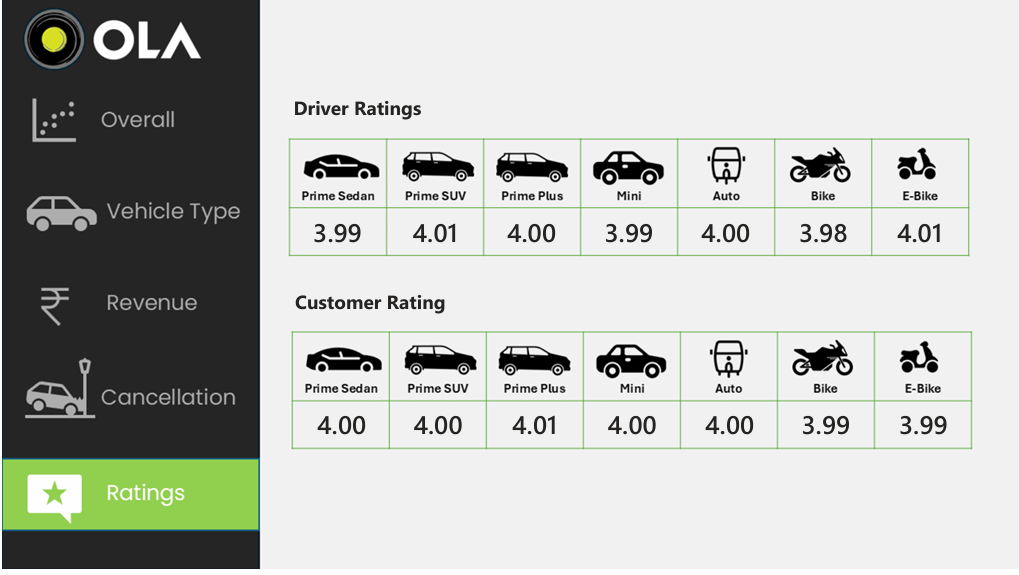

The dashboard page shown, as its layout file describes it:
{"tool":"powerbi","page":{"name":"Ratings","canvas":[1280,720],"ordinal":4},"visuals":[{"type":"actionButton","box":[0,337.8,323.3,91.7],"z":0},{"type":"actionButton","box":[0,224.4,323.3,91.7],"z":1000},{"type":"actionButton","box":[0,108.6,323.3,91.7],"z":2000},{"type":"actionButton","box":[0,448.8,323.3,91.7],"z":3000},{"type":"card","fields":{"Values":["Avg(OLA_Bookings.Driver_Ratings)"]},"box":[362.5,262.5,117.5,62.5],"z":4000},{"type":"card","fields":{"Values":["Avg(OLA_Bookings.Driver_Ratings)"]},"box":[485,262.5,117.5,62.5],"z":5000},{"type":"card","fields":{"Values":["Avg(OLA_Bookings.Driver_Ratings)"]},"box":[606.2,262.5,117.5,62.5],"z":6000},{"type":"card","fields":{"Values":["Avg(OLA_Bookings.Driver_Ratings)"]},"box":[728.8,262.5,117.5,62.5],"z":7000},{"type":"card","fields":{"Values":["Avg(OLA_Bookings.Driver_Ratings)"]},"box":[850,262.5,117.5,62.5],"z":8000},{"type":"card","fields":{"Values":["Avg(OLA_Bookings.Driver_Ratings)"]},"box":[972.5,262.5,117.5,62.5],"z":9000},{"type":"card","fields":{"Values":["Avg(OLA_Bookings.Driver_Ratings)"]},"box":[1093.8,262.5,117.5,62.5],"z":10000},{"type":"card","fields":{"Values":["Avg(OLA_Bookings.Customer_Rating)"]},"box":[367.5,507.5,117.5,56.2],"z":11000},{"type":"textbox","box":[361.2,116.2,181.2,57.5],"z":12000},{"type":"textbox","box":[362.5,360,200,57.5],"z":13000},{"type":"card","fields":{"Values":["Avg(OLA_Bookings.Customer_Rating)"]},"box":[488.8,507.5,117.5,56.2],"z":14000},{"type":"card","fields":{"Values":["Avg(OLA_Bookings.Customer_Rating)"]},"box":[610,507.5,117.5,56.2],"z":15000},{"type":"card","fields":{"Values":["Avg(OLA_Bookings.Customer_Rating)"]},"box":[732.5,507.5,117.5,56.2],"z":16000},{"type":"card","fields":{"Values":["Avg(OLA_Bookings.Customer_Rating)"]},"box":[855,507.5,117.5,56.2],"z":17000},{"type":"card","fields":{"Values":["Avg(OLA_Bookings.Customer_Rating)"]},"box":[976.2,507.5,117.5,56.2],"z":18000},{"type":"card","fields":{"Values":["Avg(OLA_Bookings.Customer_Rating)"]},"box":[1098.8,507.5,117.5,56.2],"z":19000}]}

Visuals, with their boxes on the page's 1280x720 design canvas (x1, y1, x2, y2). These are canvas units, not pixel positions in the 1019x575 screenshot, which may show the page scaled, cropped or inside an application window:
actionButton: region(0, 338, 323, 430)
actionButton: region(0, 224, 323, 316)
actionButton: region(0, 109, 323, 200)
actionButton: region(0, 449, 323, 540)
card - Avg(OLA_Bookings.Driver_Ratings): region(362, 262, 480, 325)
card - Avg(OLA_Bookings.Driver_Ratings): region(485, 262, 602, 325)
card - Avg(OLA_Bookings.Driver_Ratings): region(606, 262, 724, 325)
card - Avg(OLA_Bookings.Driver_Ratings): region(729, 262, 846, 325)
card - Avg(OLA_Bookings.Driver_Ratings): region(850, 262, 968, 325)
card - Avg(OLA_Bookings.Driver_Ratings): region(972, 262, 1090, 325)
card - Avg(OLA_Bookings.Driver_Ratings): region(1094, 262, 1211, 325)
card - Avg(OLA_Bookings.Customer_Rating): region(368, 508, 485, 564)
textbox: region(361, 116, 542, 174)
textbox: region(362, 360, 562, 418)
card - Avg(OLA_Bookings.Customer_Rating): region(489, 508, 606, 564)
card - Avg(OLA_Bookings.Customer_Rating): region(610, 508, 728, 564)
card - Avg(OLA_Bookings.Customer_Rating): region(732, 508, 850, 564)
card - Avg(OLA_Bookings.Customer_Rating): region(855, 508, 972, 564)
card - Avg(OLA_Bookings.Customer_Rating): region(976, 508, 1094, 564)
card - Avg(OLA_Bookings.Customer_Rating): region(1099, 508, 1216, 564)
